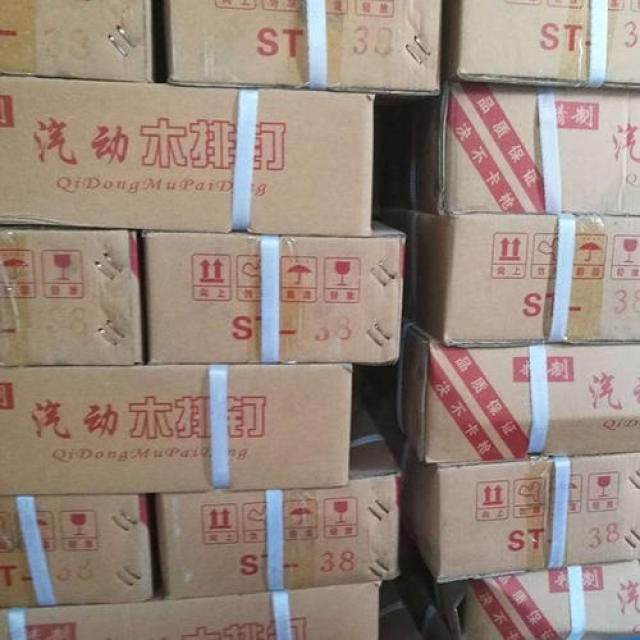box: (155, 411, 402, 601), (0, 363, 352, 496), (142, 218, 406, 365), (387, 314, 639, 463), (388, 207, 639, 346), (404, 439, 639, 583), (389, 81, 639, 215), (164, 0, 441, 96), (0, 580, 382, 639), (1, 226, 143, 367), (0, 494, 154, 608), (442, 0, 639, 89), (438, 559, 638, 639), (0, 0, 153, 83)
